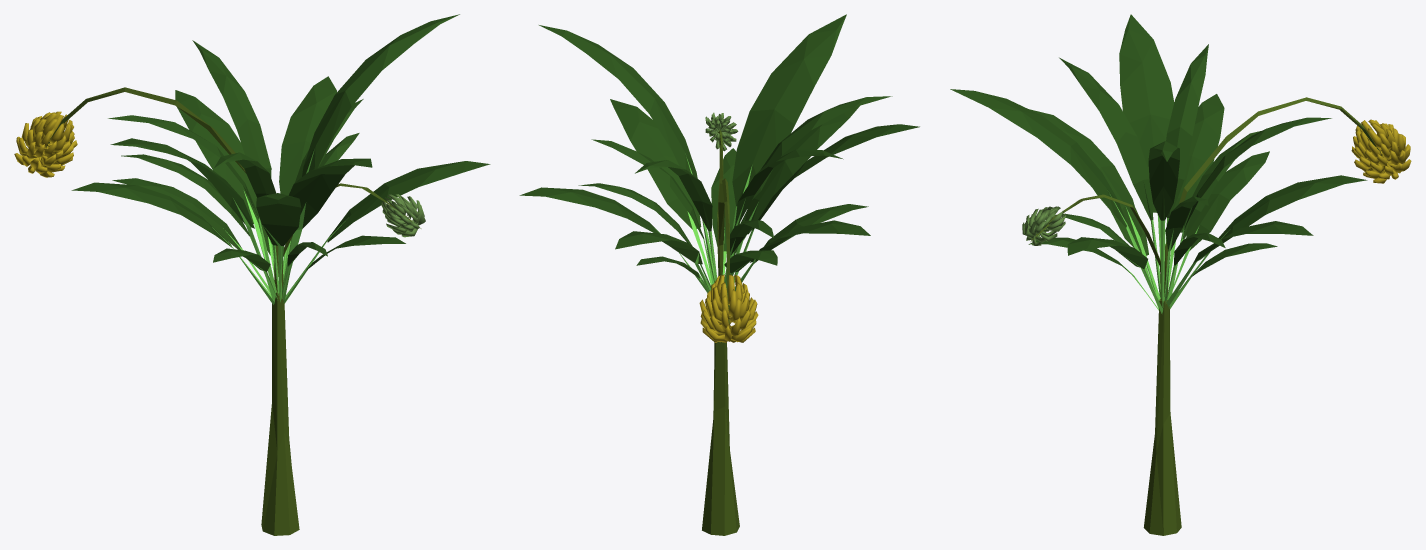
Rendered from SM_BananaTree_002_LOD5.fbx.
3 renders of one model, left to right at view 1: azimuth 30°, elevation 25°; view 2: azimuth 150°, elevation 25°; view 3: azimuth 270°, elevation 25°, orthographic. The views are drawn at different scales.
Visible parts, largest first — view 1: BananaTree; view 2: BananaTree; view 3: BananaTree.
Part boxes in pixels (box(x1,y1,x2,y2)): BananaTree: box(14, 14, 490, 535); BananaTree: box(519, 14, 919, 535); BananaTree: box(950, 14, 1411, 535).
Bounding box in the file's own units: 336 × 407 × 377.
